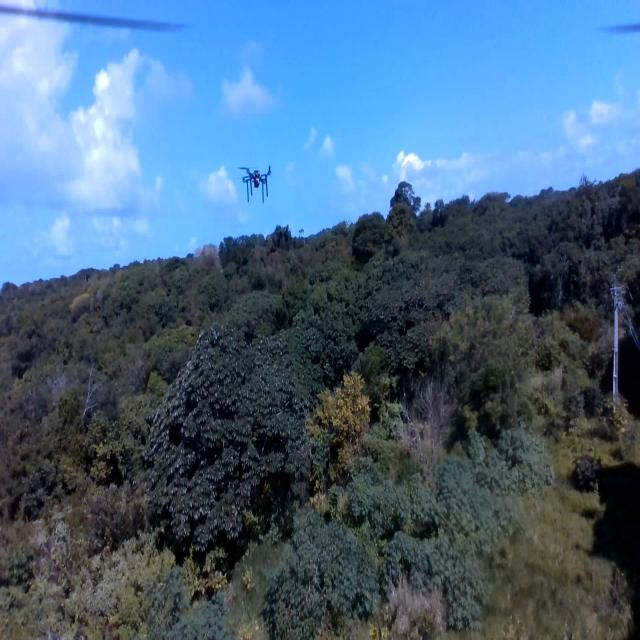-uav-: (235, 163, 276, 207)
